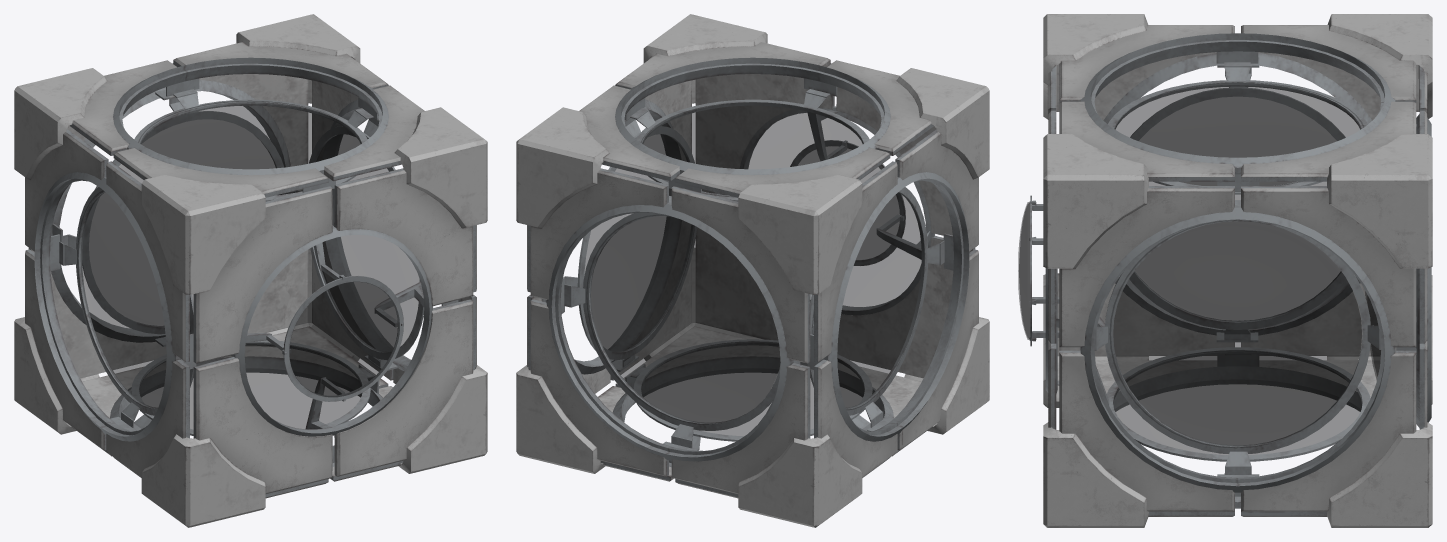
Rendered from reflection_cube.glb.
The picture shows the model from 3 angles, left to right: view 1: azimuth 30°, elevation 25°; view 2: azimuth 150°, elevation 25°; view 3: azimuth 270°, elevation 25°; orthographic projection. The views are drawn at different scales.
Parts seen in each view (by area): view 1: ReflectiveCube_1, ReflectiveCubeGlass_0; view 2: ReflectiveCube_1, ReflectiveCubeGlass_0; view 3: ReflectiveCube_1, ReflectiveCubeGlass_0.
Part boxes in pixels (x1,y1,x2,y2): ReflectiveCube_1: [14, 14, 487, 527]; ReflectiveCubeGlass_0: [77, 101, 419, 429]; ReflectiveCube_1: [516, 14, 989, 527]; ReflectiveCubeGlass_0: [585, 102, 924, 435]; ReflectiveCube_1: [1029, 14, 1432, 527]; ReflectiveCubeGlass_0: [1018, 82, 1380, 454].
Bounding box in the file's own units: 0.7038 × 0.7038 × 0.7487.
2 materials, 1 textured.
